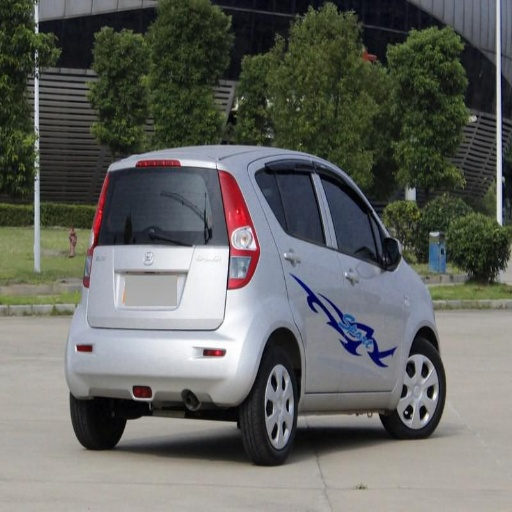back_bumper: (67, 287, 268, 406)
back_right_door: (256, 161, 348, 396)
tailgate: (91, 243, 213, 328)
trunk: (85, 242, 228, 327)
